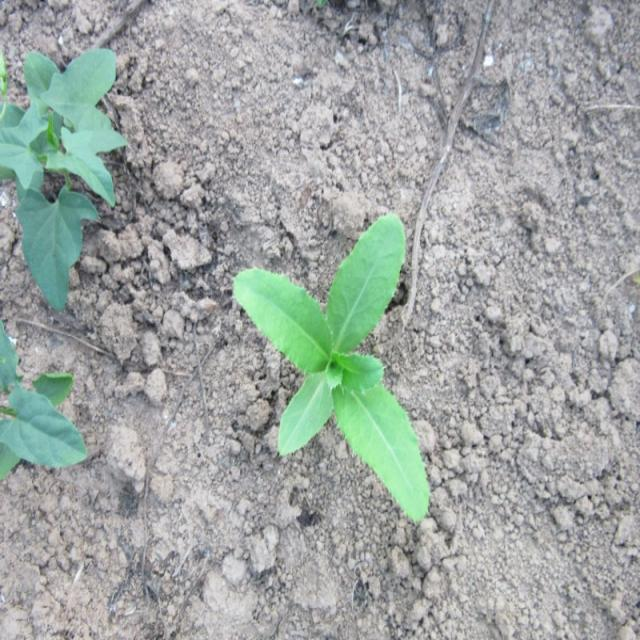cs: (228, 205, 434, 527)
